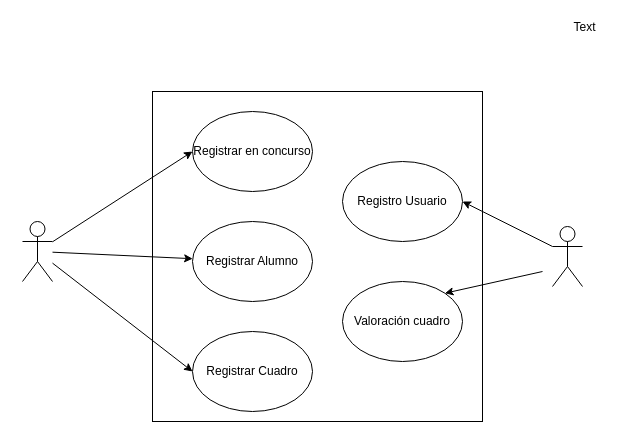
Image size: 622x439. Some labels were removed from this diagram. Here are the shapes that lost their labels. From the top down, the centre of each, then its label:
At pixel 37 251: "Colegio".
At pixel 567 256: "Usuario".
